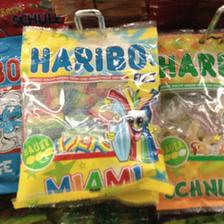Suessigkeit: (8, 20, 168, 200), (136, 32, 224, 208)
